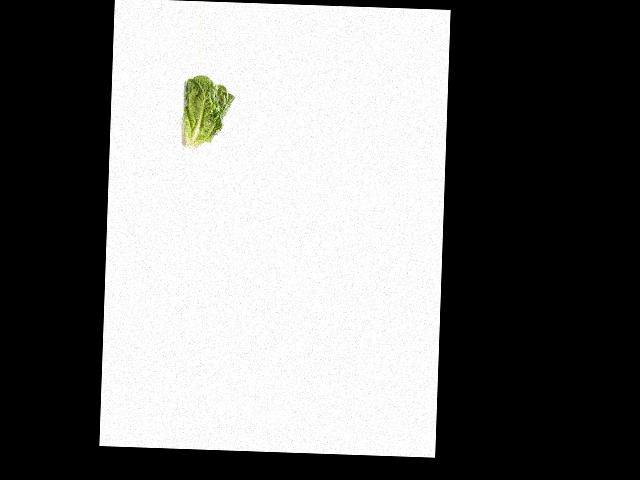lettuce: (171, 74, 236, 153)
